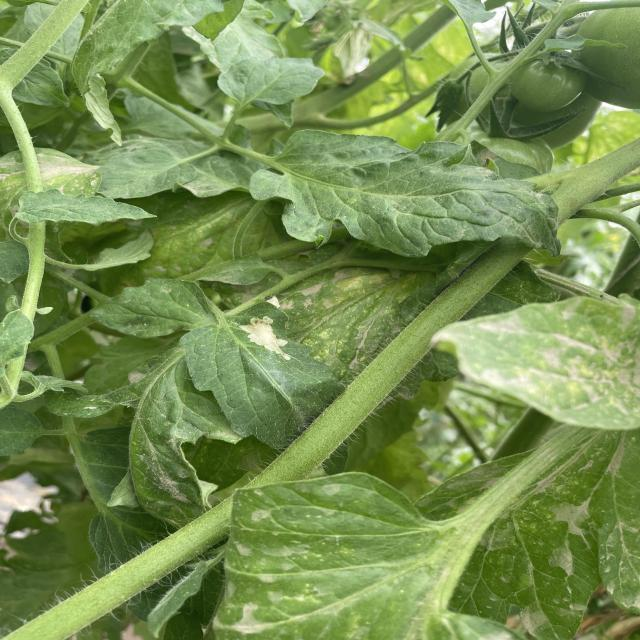Tuta absoluta: (238, 307, 299, 371)
